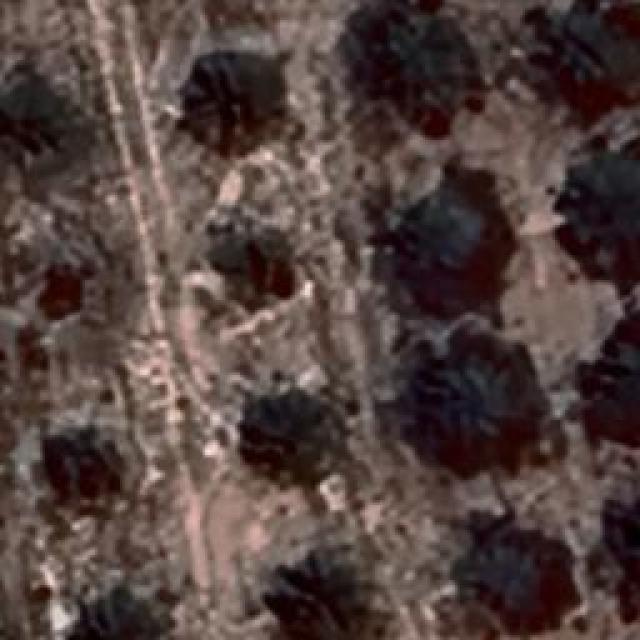PalmTree: (76, 91, 612, 386), (400, 352, 530, 466), (387, 184, 505, 296), (540, 2, 640, 130), (235, 388, 358, 492), (466, 528, 569, 626), (557, 148, 640, 266), (212, 222, 316, 316), (268, 557, 383, 640), (376, 21, 479, 111), (192, 68, 276, 140), (0, 73, 62, 166), (42, 422, 120, 492), (62, 595, 172, 640), (55, 115, 76, 271), (612, 489, 640, 600)
